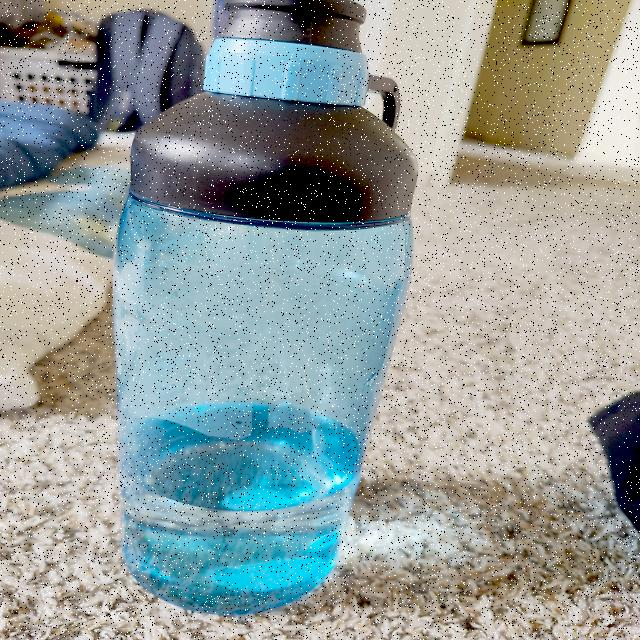bottle: (112, 0, 418, 613)
